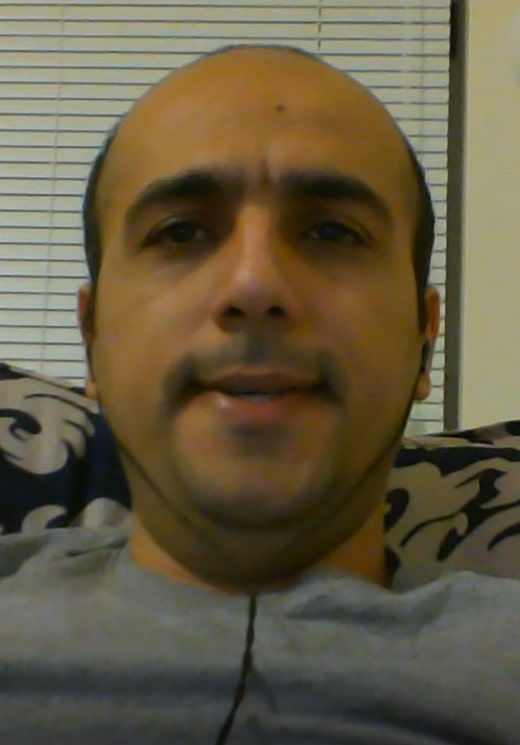Not Sleeping: (125, 171, 387, 284)
